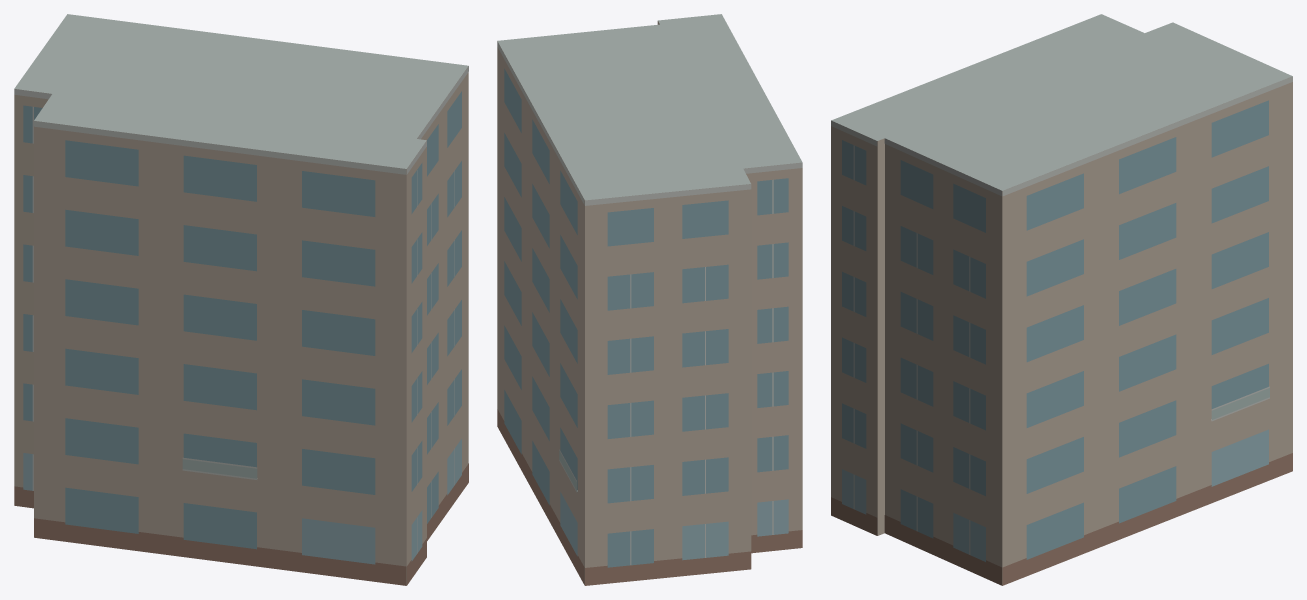
File: survey-upis-32738537.glb
The picture shows the model from 3 angles, left to right: view 1: azimuth 30°, elevation 25°; view 2: azimuth 150°, elevation 25°; view 3: azimuth 270°, elevation 25°; orthographic projection. The views are drawn at different scales.
Parts seen in each view (by area): view 1: survey-upis-32738537.tmp; view 2: survey-upis-32738537.tmp; view 3: survey-upis-32738537.tmp.
Boxes of the visible parts, x1=… form: survey-upis-32738537.tmp: x1=14, y1=14, x2=468, y2=585; survey-upis-32738537.tmp: x1=497, y1=14, x2=802, y2=585; survey-upis-32738537.tmp: x1=831, y1=14, x2=1292, y2=585.
Size of the model in its own units: 16.53 by 17.2 by 18.23.
